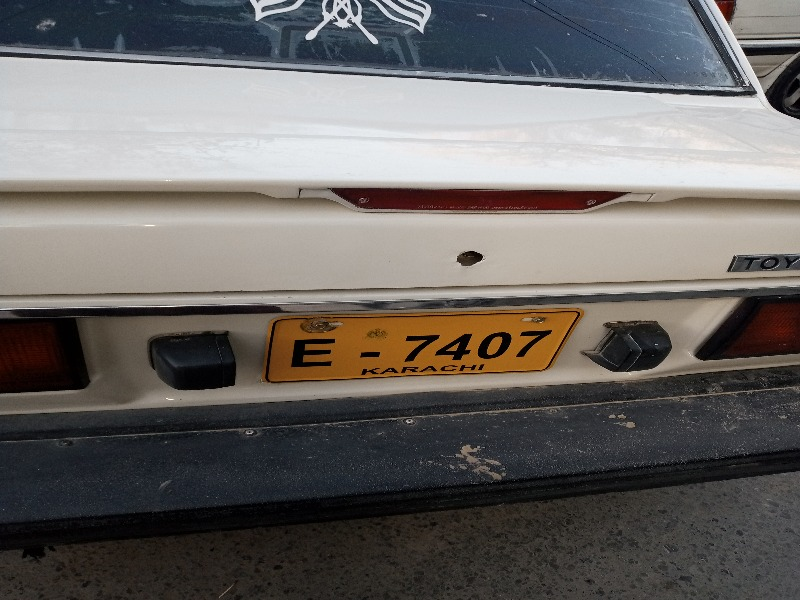License Plate: (262, 308, 587, 384)
